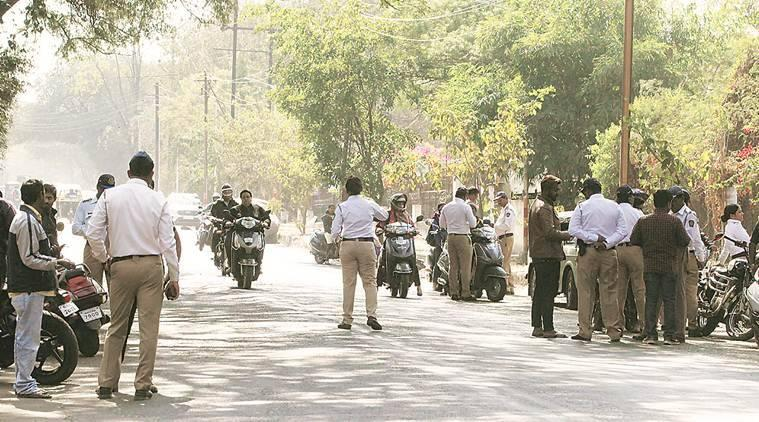helmet: (388, 189, 411, 215), (218, 183, 238, 203)
